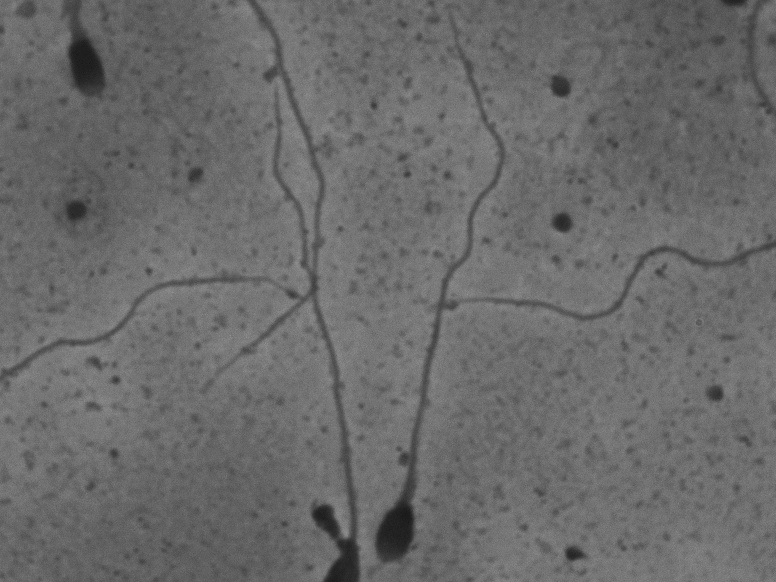Normal: (364, 11, 524, 576)
